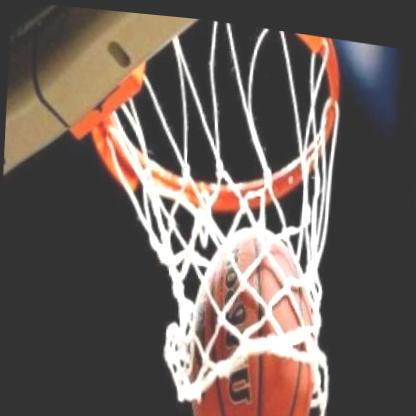basketball: (178, 209, 325, 416)
